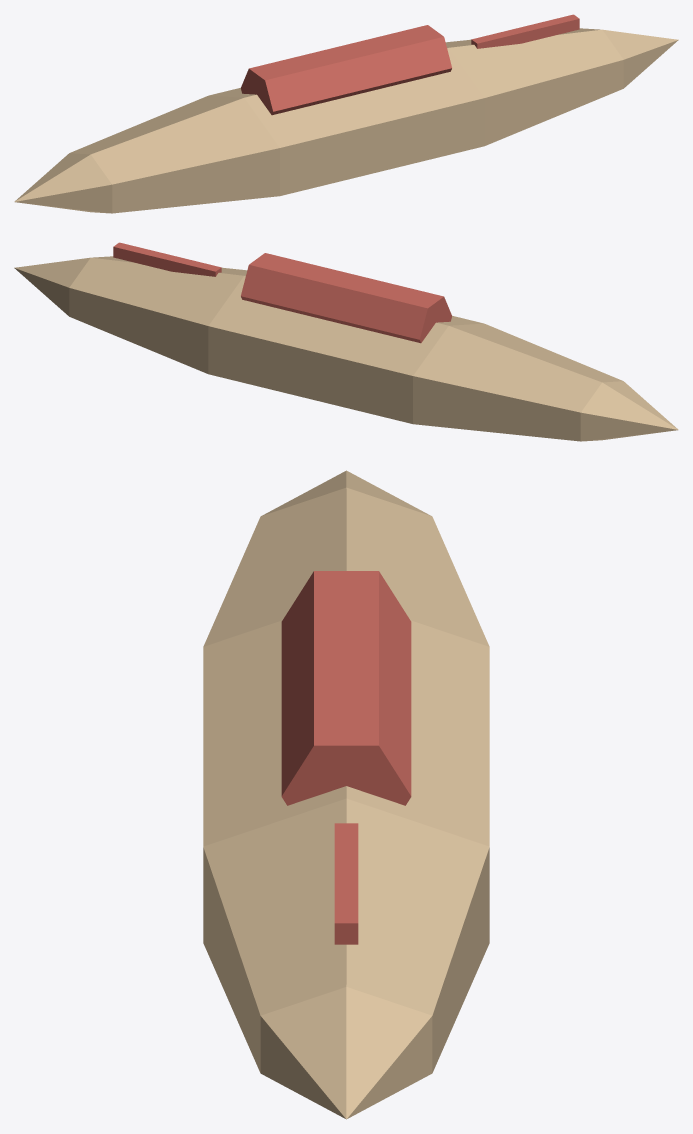
File: prop-weaving-shuttle.fbx
3 views of the same model, one above another, from view 1: azimuth 30°, elevation 25°; view 2: azimuth 150°, elevation 25°; view 3: azimuth 270°, elevation 25° (orthographic). The views are drawn at different scales.
Visible parts, largest first — view 1: prop-weaving-shuttle; view 2: prop-weaving-shuttle; view 3: prop-weaving-shuttle.
Part boxes in pixels (x1,y1,x2,y2): prop-weaving-shuttle: (14,14,678,213); prop-weaving-shuttle: (14,242,678,441); prop-weaving-shuttle: (203,470,489,1119).
Size of the model in its own units: 26 by 4.35 by 4.85.
